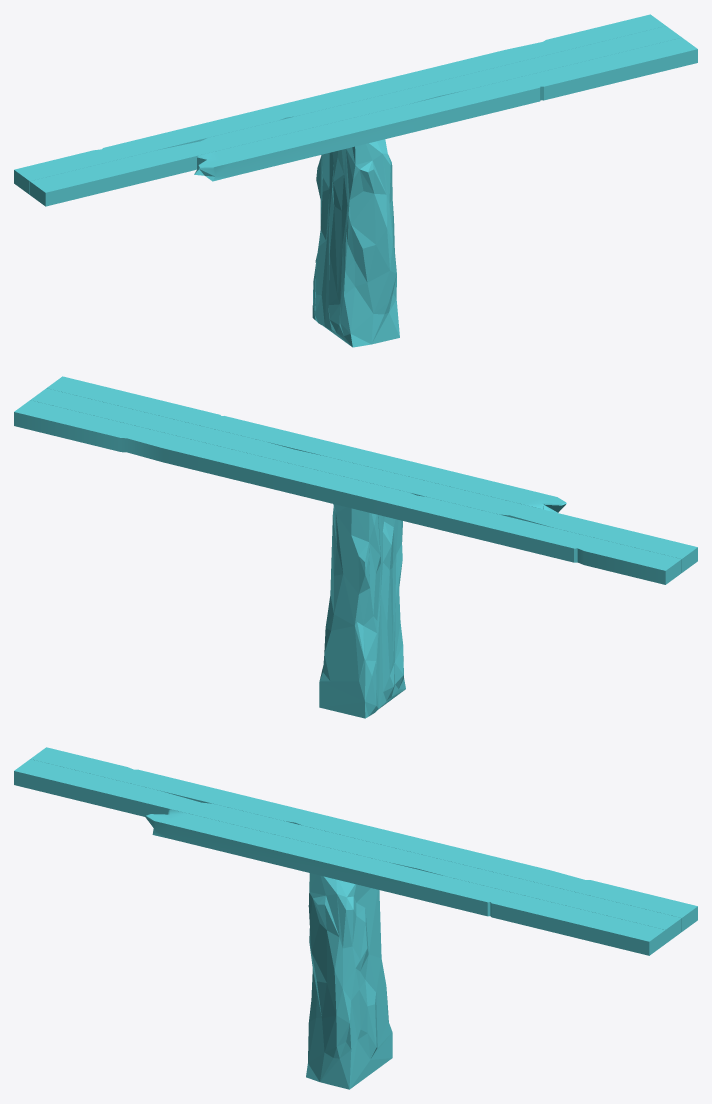
File: New_platform2.fbx
3 views of the same model, one above another, from view 1: azimuth 30°, elevation 25°; view 2: azimuth 150°, elevation 25°; view 3: azimuth 330°, elevation 25° (orthographic). The views are drawn at different scales.
Parts seen in each view (by area): view 1: New_platform2; view 2: New_platform2; view 3: New_platform2.
Part boxes in pixels (left/top/right/bottom): New_platform2: left=14, top=14, right=697, bottom=347; New_platform2: left=14, top=376, right=697, bottom=718; New_platform2: left=14, top=747, right=697, bottom=1089.
Size of the model in its own units: 4192 by 1378 by 541.
